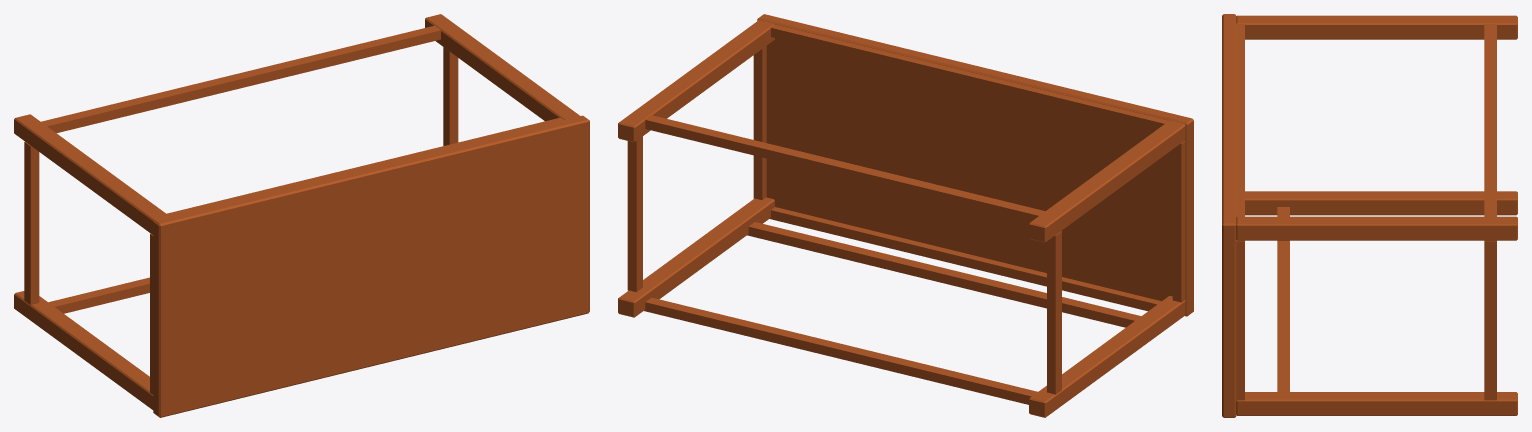
Rendered from MeshSideTable_209_1_0.obj.
3 views of the same model, side by side, from view 1: azimuth 30°, elevation 25°; view 2: azimuth 150°, elevation 25°; view 3: azimuth 270°, elevation 25° (orthographic).
Visible parts, largest first — view 1: SideTable_209_1; view 2: SideTable_209_1; view 3: SideTable_209_1.
Part boxes in pixels (bbox=[...]): SideTable_209_1: bbox=[14, 14, 589, 417]; SideTable_209_1: bbox=[618, 14, 1193, 417]; SideTable_209_1: bbox=[1222, 14, 1517, 417].
Bounding box in the file's own units: 0.8014 × 0.3447 × 0.475.
